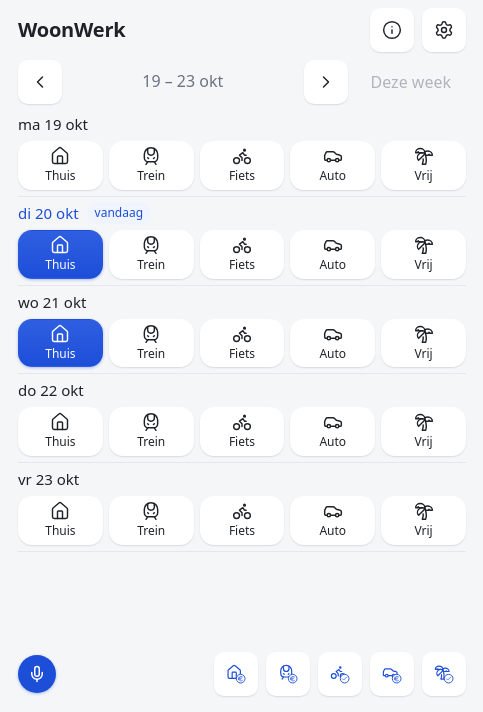
it: AC20: overzicht thuiswerkvergoeding › toont de thuisdagen van 20 juli t/m vandaag, per maand in een eigen kolom
Click the button named "Overzicht thuiswerkvergoeding": point(236, 674) [214,652,258,696]
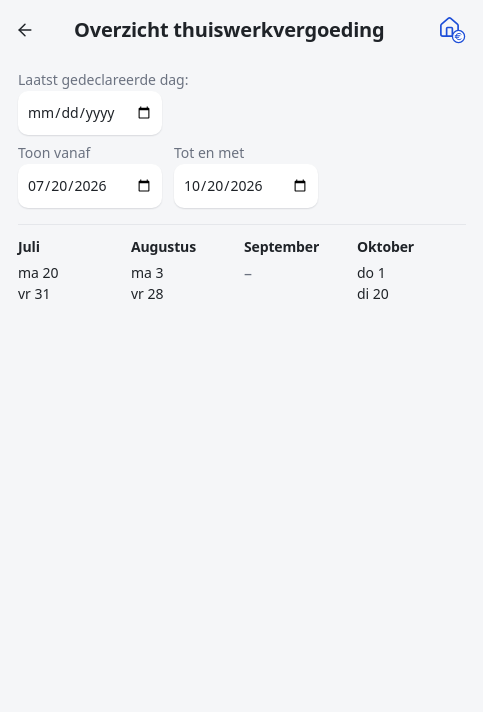
Expected: the heading "Overzicht thuiswerkvergoeding" is shown, [74,18,384,42]
Expected: the picture named "Thuis" is shown, [438,16,466,44]
Expected: the date field labelled "Toon vanaf" holds "2026-07-20", [18,164,162,208]
